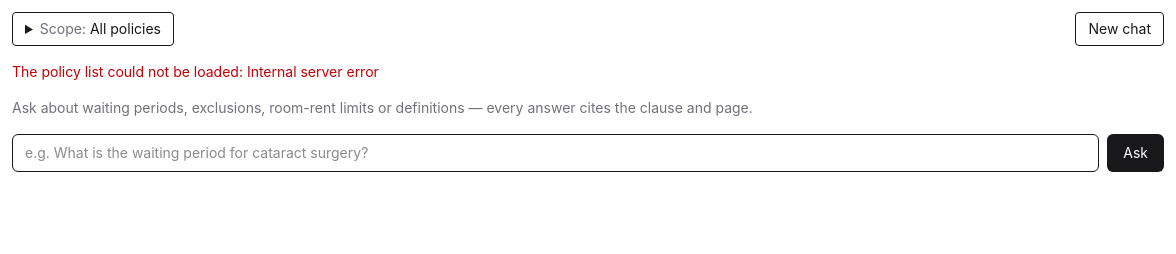
Test: ChatView › says the policy list could not be loaded instead of "No ready policies yet."
Expected: the text "The policy list could not be loaded: Internal server error" is shown, [12,63,379,80]
Click the heading "Scope: All policies": [93, 29] box [12,12,174,46]
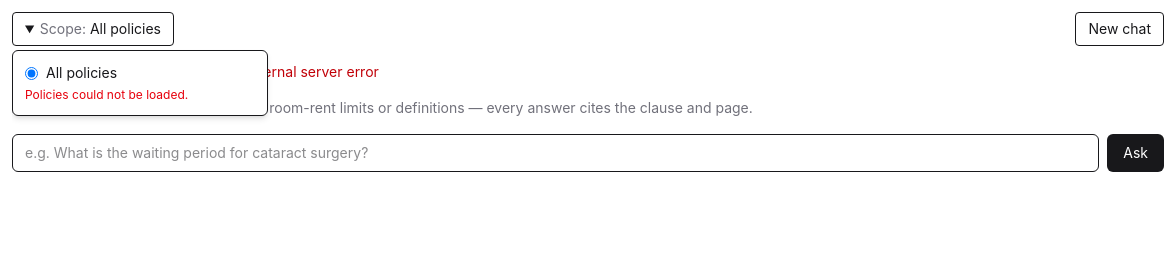
Now the text "Policies could not be loaded." is shown, box [25,87,188,102]
In the field: [556, 153] box [12,134,1099,172], type "q"
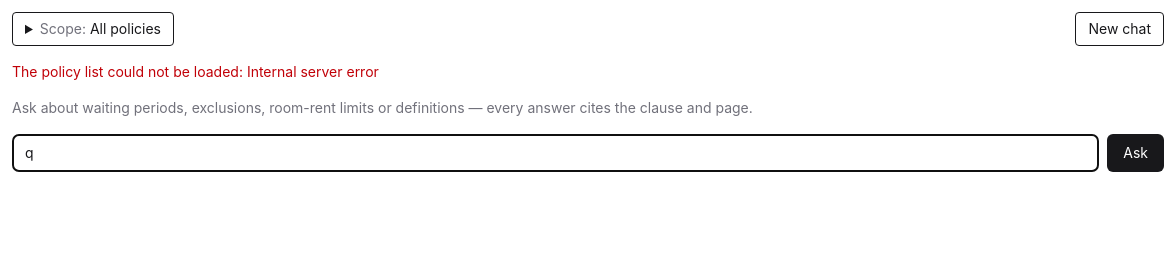
Click the button "Ask": [1136, 153] box [1107,134,1164,172]
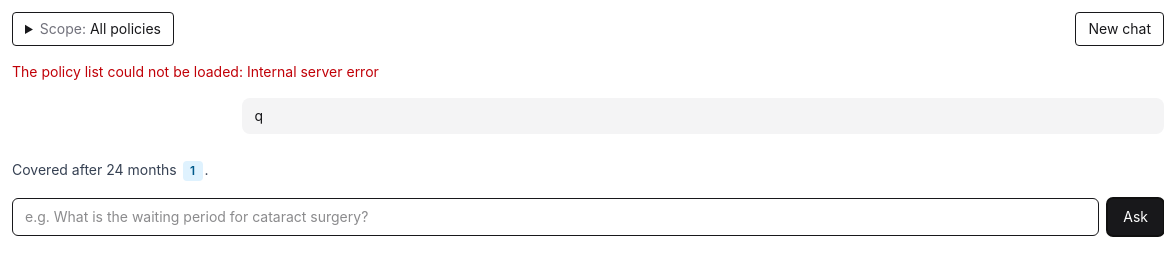
Now the button named "source 1" is shown, box [183,161,203,181]
